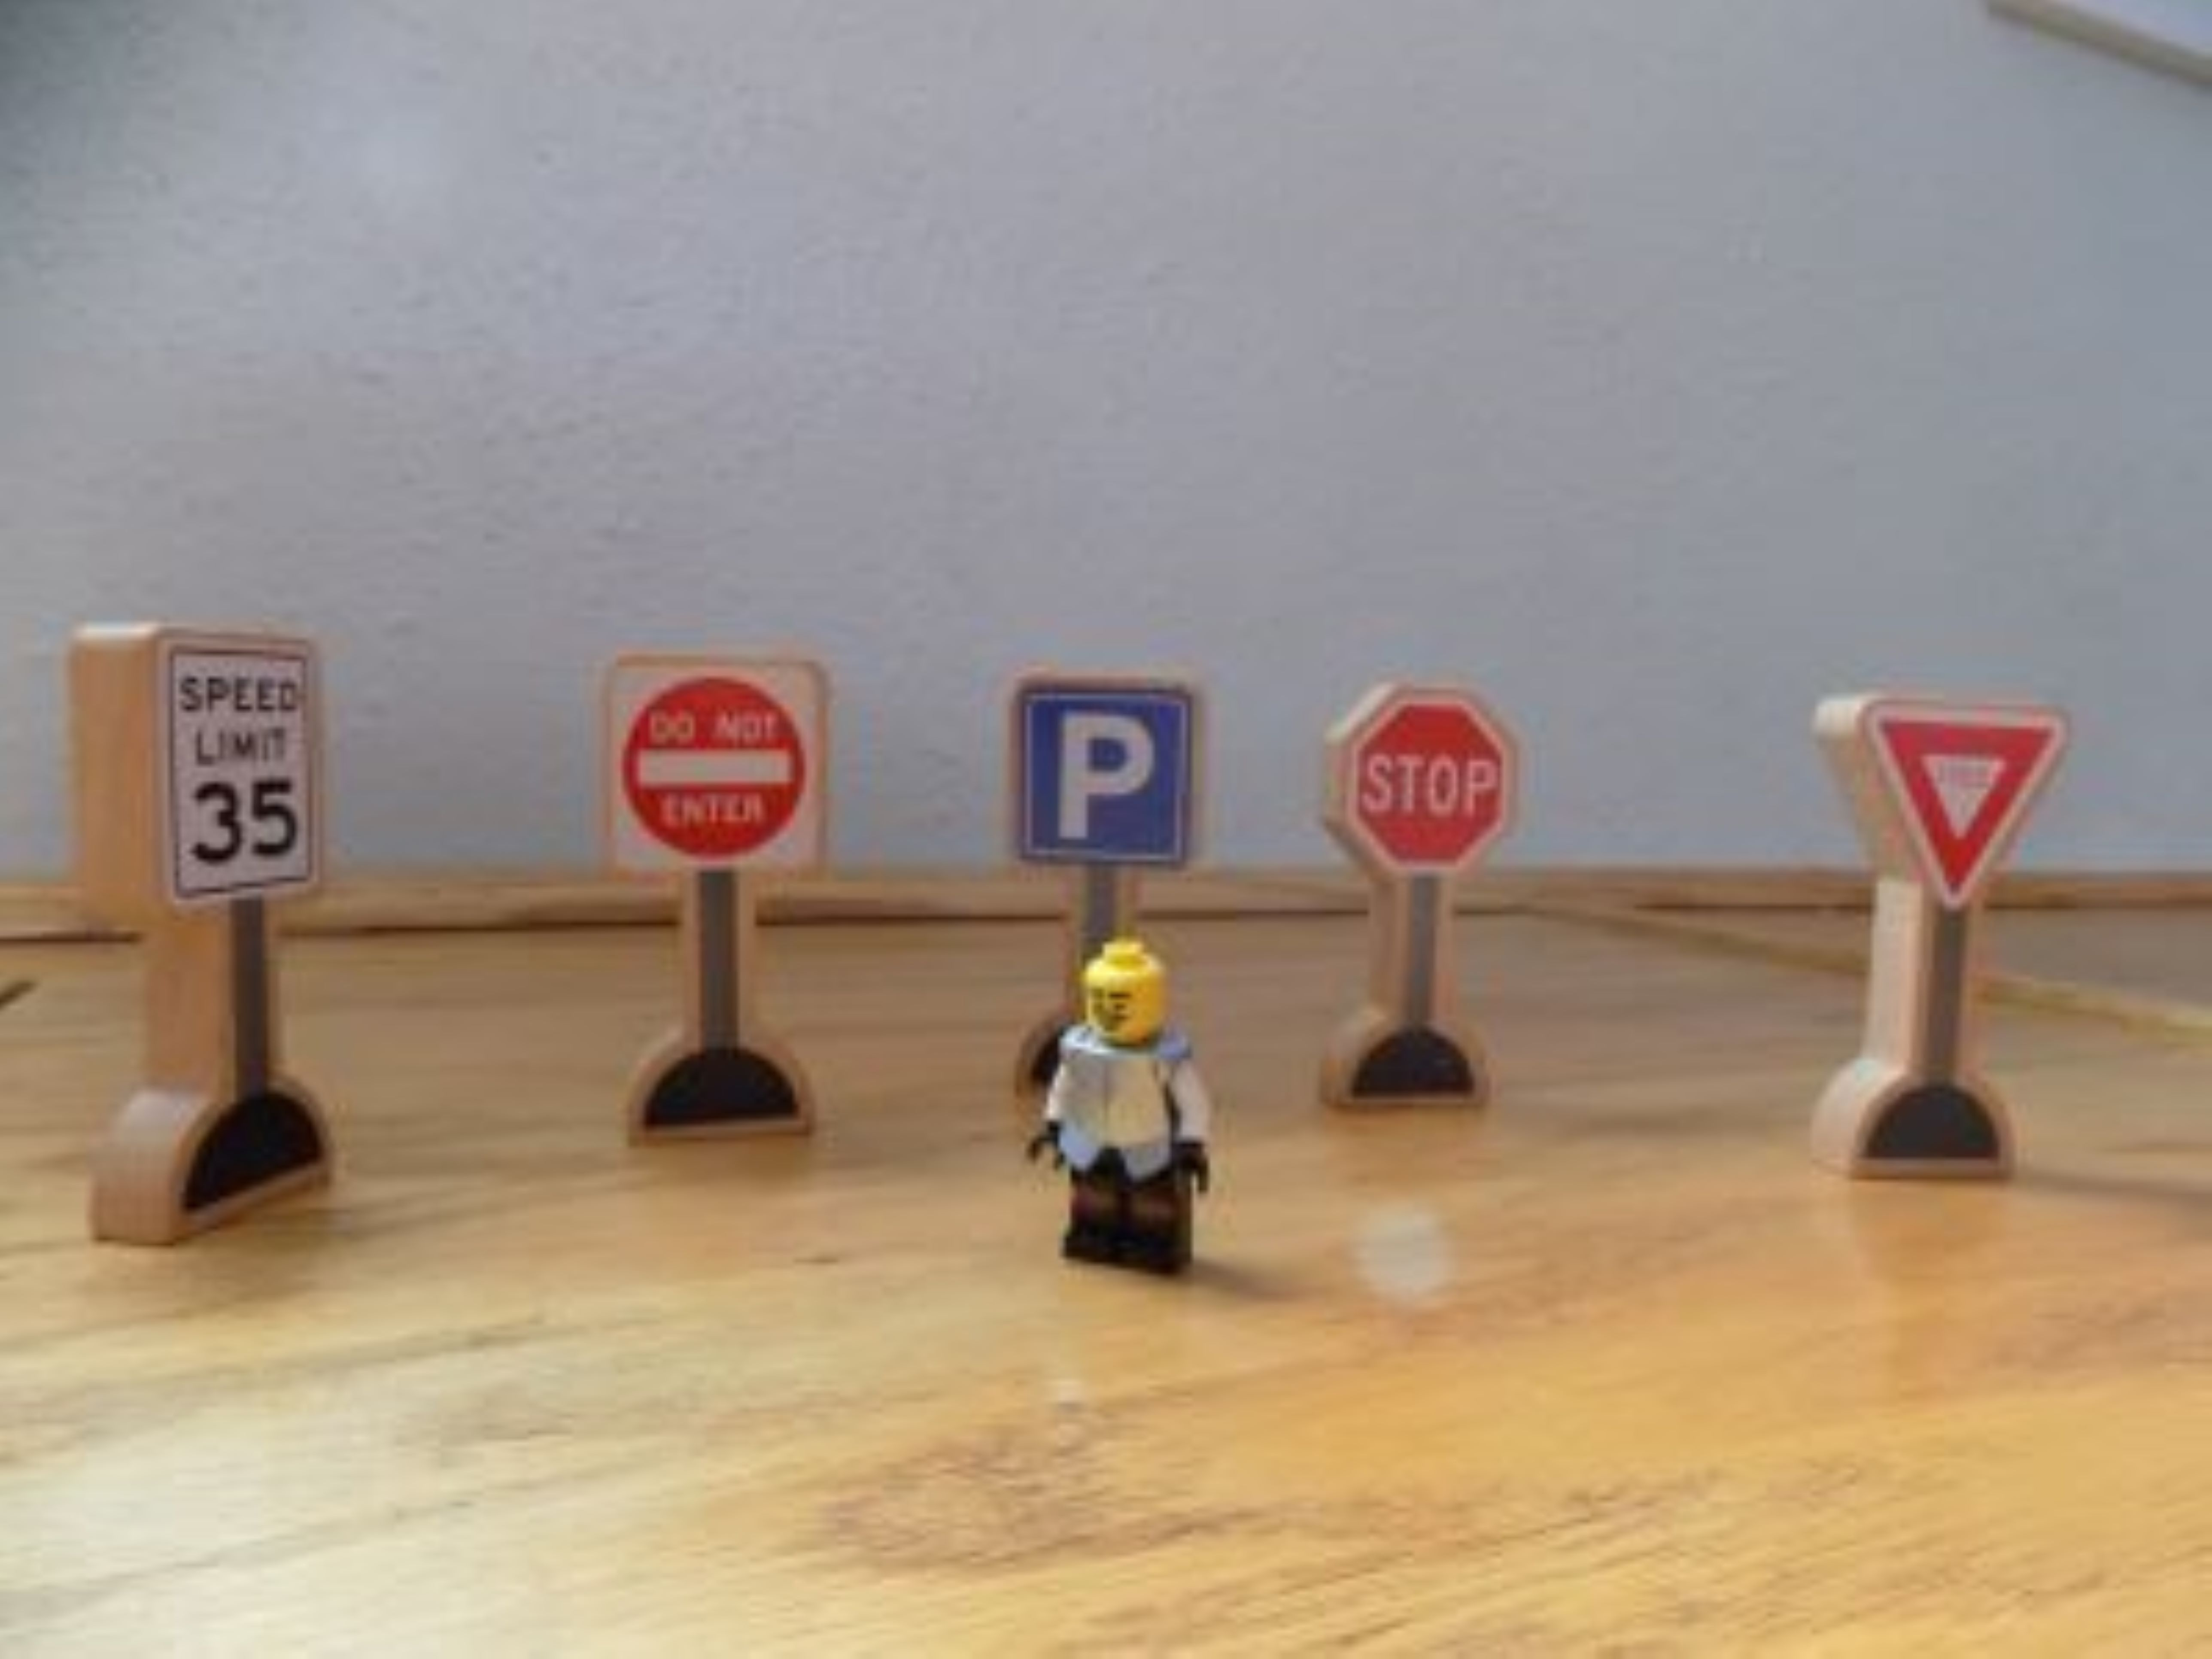Do Not Enter: (609, 665, 830, 878)
Parking Sign: (1014, 677, 1206, 871)
Person: (1026, 939, 1220, 1288)
Speed Limit 35: (68, 630, 344, 927)
Stop Sign: (1316, 694, 1528, 891)
Yield Sign: (1813, 694, 2087, 931)
